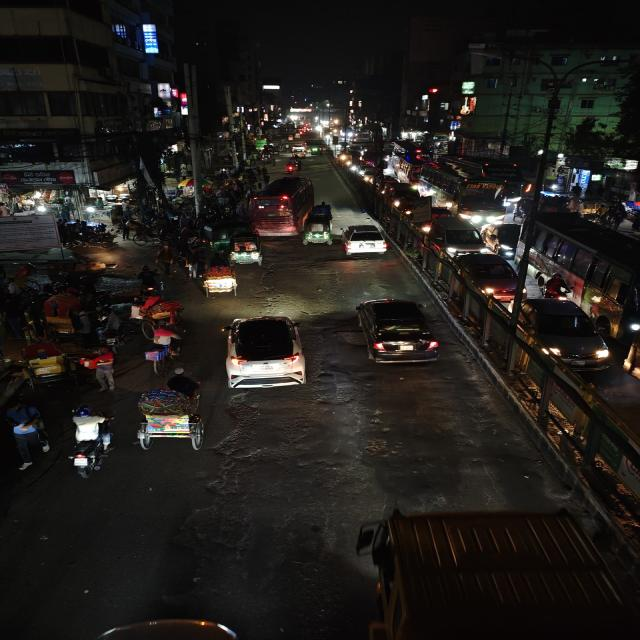bicycle: (136, 322, 185, 372)
bus: (524, 212, 640, 336), (419, 162, 510, 218), (250, 176, 316, 237)
car: (217, 312, 314, 391), (513, 297, 613, 371), (350, 294, 444, 366), (448, 253, 528, 305), (425, 216, 491, 258), (338, 222, 390, 258), (483, 222, 526, 254), (383, 185, 421, 212)
cng: (228, 230, 266, 266), (203, 220, 243, 248), (303, 212, 334, 246)
motorcycle: (61, 406, 116, 478), (137, 319, 186, 372), (538, 272, 574, 300), (282, 159, 302, 174)
pedestrian: (2, 400, 50, 468), (82, 344, 122, 393), (134, 265, 164, 295), (154, 244, 177, 277), (175, 250, 196, 279)
rickshaw: (129, 374, 220, 453), (15, 339, 79, 389), (125, 291, 187, 328), (191, 256, 243, 299)
truck: (353, 502, 640, 640)
